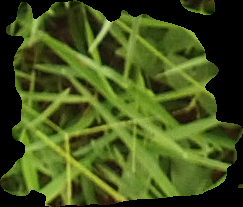grass: (1, 1, 241, 206)
